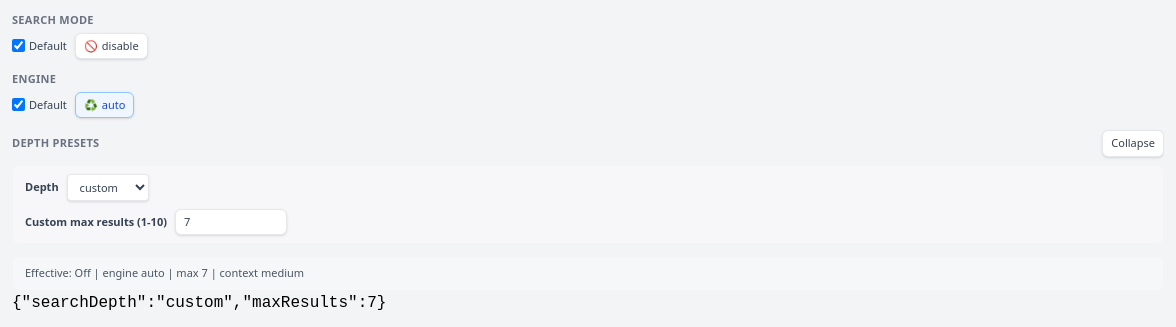
Test: WebSearchSettingsEditor › Depth expands with backfill while keeping selected preset unchanged
This screenshot has width=1176, height=327.
Expected: the field with test id "search-max-results-input" holds "7", [175, 208, 287, 235]
Step 1. Select "medium" in the dropdown with test id "search-depth-select" → (108, 187), box [67, 174, 149, 200]
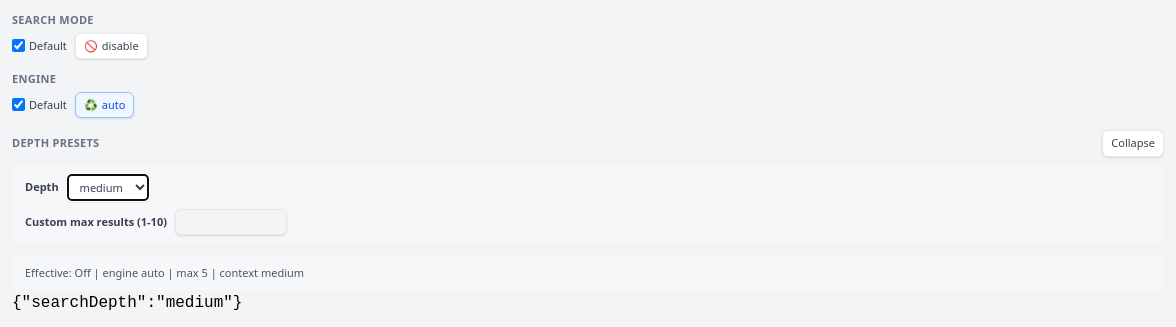
Expected: the field with test id "search-max-results-input" is empty, [175, 208, 287, 235]
Step 2. Click the button with test id "search-depth-panel-toggle" → (1133, 143), box [1102, 130, 1164, 156]
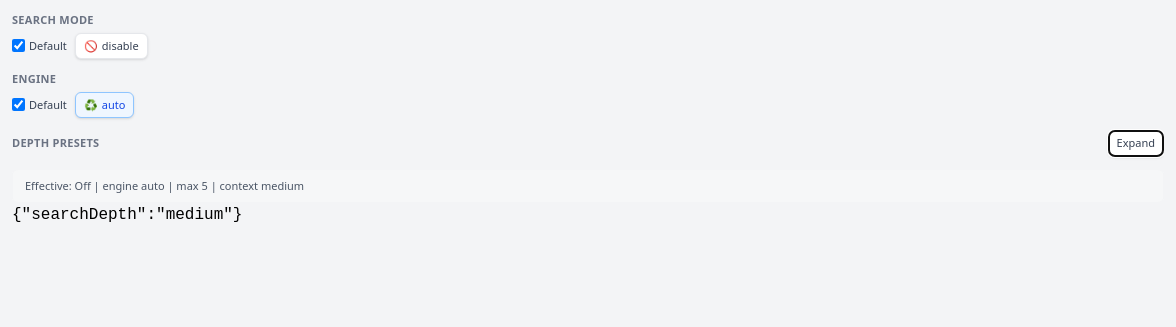
Expected: the button with test id "search-depth-panel-toggle" is collapsed
Step 3. Click the button with test id "search-depth-panel-toggle" → (1136, 143), box [1108, 130, 1164, 156]
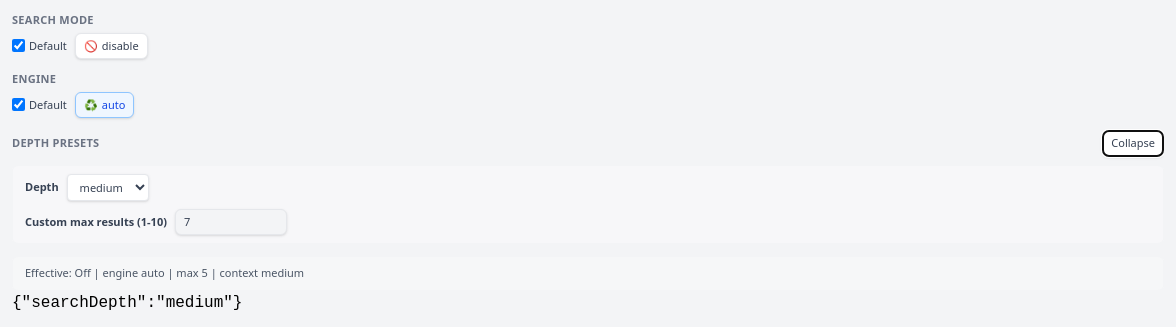
Expected: the button with test id "search-depth-panel-toggle" is expanded, [1102, 130, 1164, 156]
Expected: the field with test id "search-max-results-input" holds "7", [175, 208, 287, 235]
